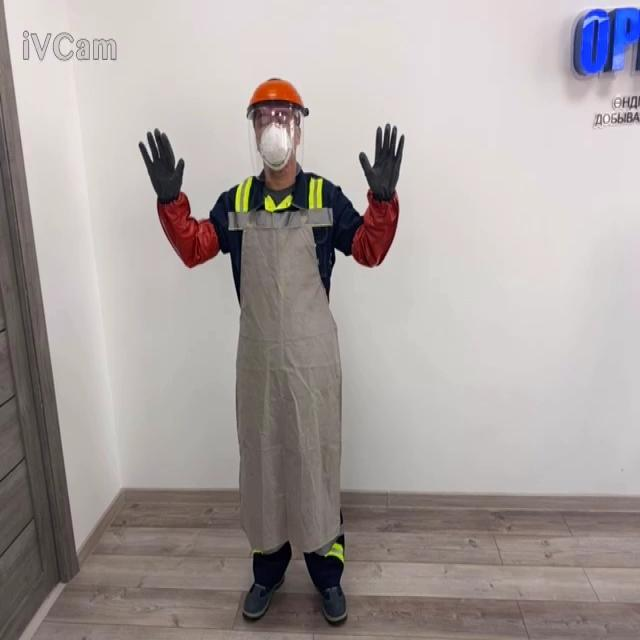Gloves: (358, 121, 404, 202), (138, 128, 184, 204)
Mask: (257, 120, 293, 172)
Protective apron: (228, 201, 343, 556)
Safety Shoes: (242, 574, 284, 618), (319, 582, 347, 622)
Sleeve: (156, 189, 220, 268), (350, 187, 399, 268)
